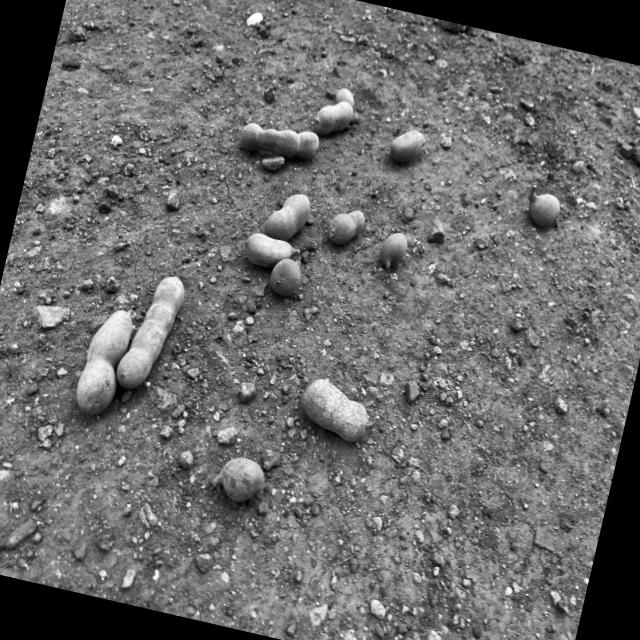tamarind: (110, 268, 190, 396), (71, 304, 136, 419), (296, 374, 381, 445), (238, 116, 320, 164), (212, 453, 270, 507), (260, 187, 314, 244), (240, 230, 304, 274), (310, 94, 356, 140), (324, 204, 368, 250), (264, 252, 306, 298), (522, 187, 564, 230), (387, 125, 428, 165), (376, 228, 410, 272), (332, 86, 358, 110)
